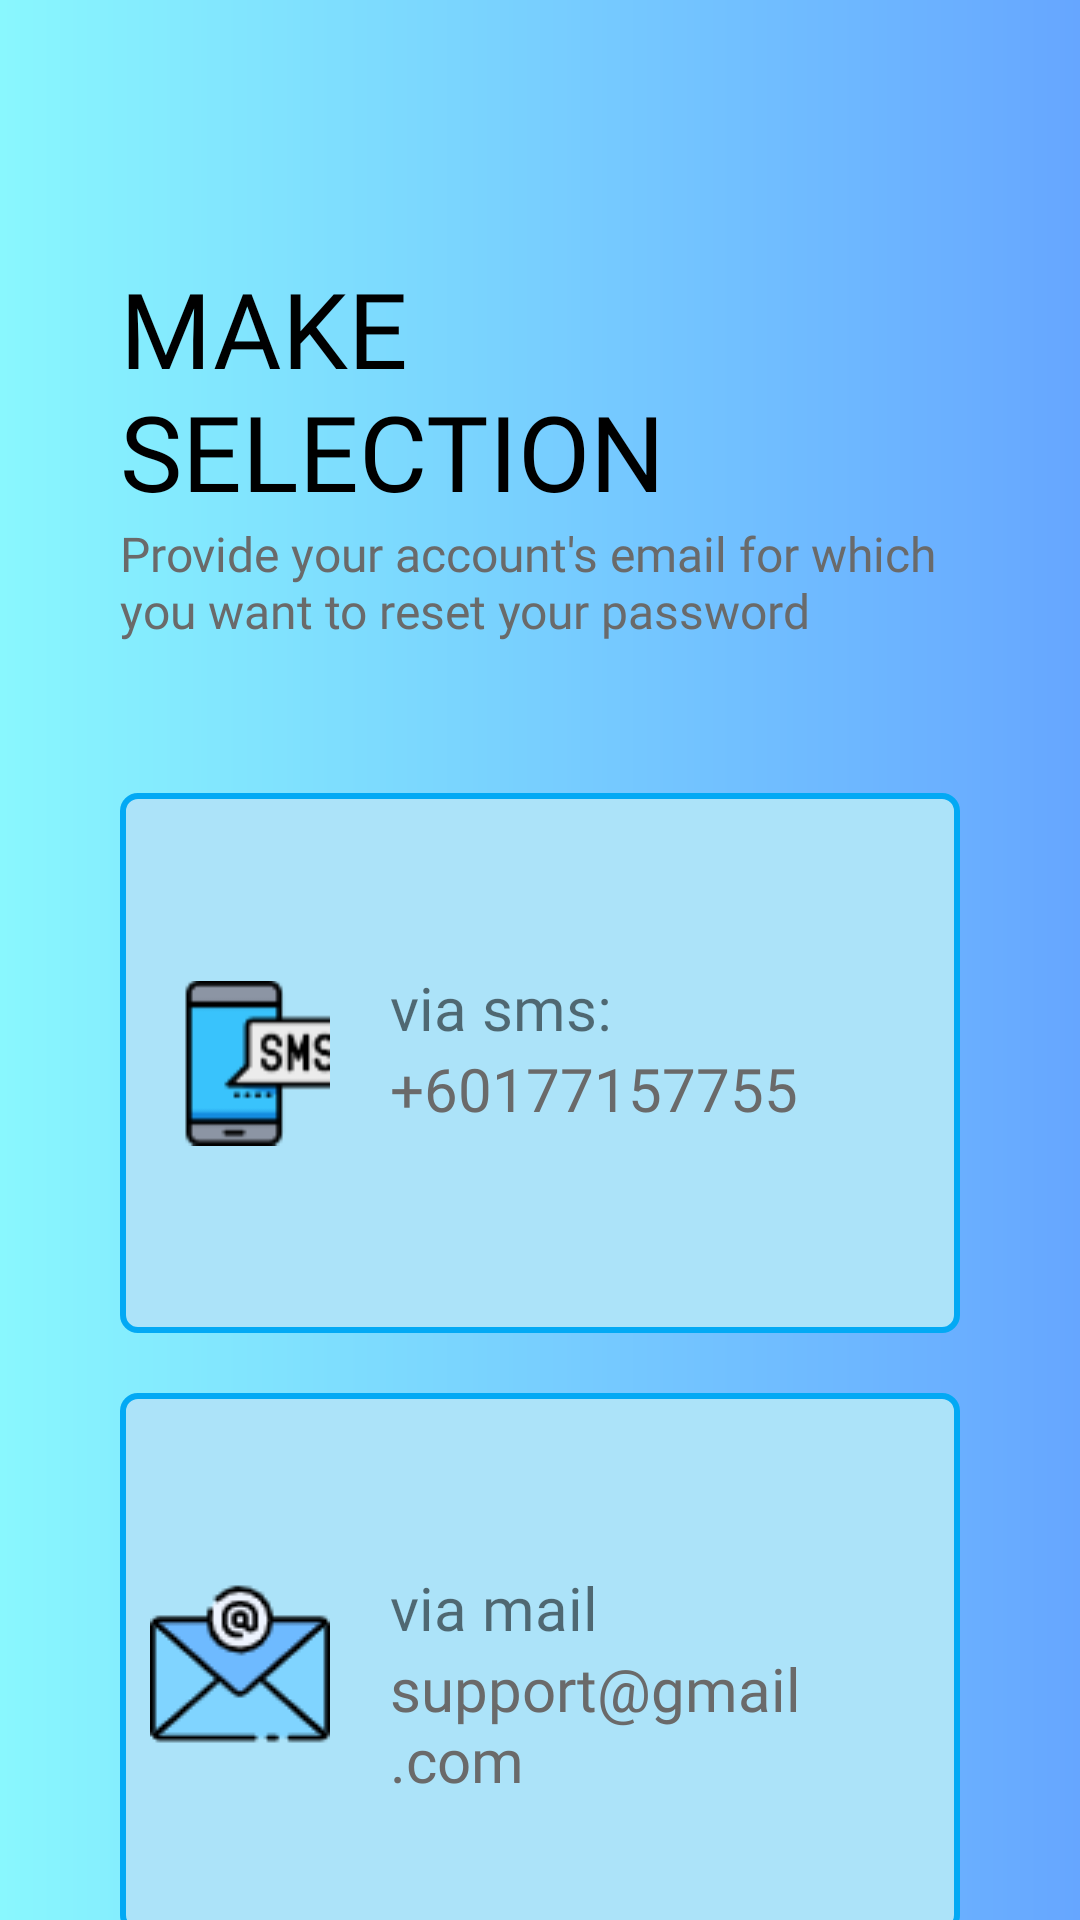

Where icons sit on this 1080 × 1920 app screen, as (x1, y1, x2, y2):
via email: (150, 1585, 330, 1743)
